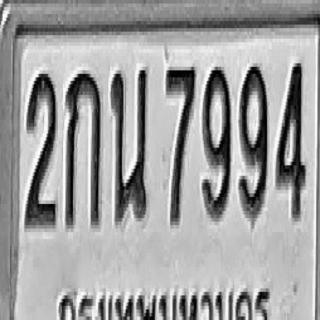A01: (64, 69, 101, 227)
A25: (110, 67, 148, 222)
N02: (24, 72, 56, 227)
N04: (275, 60, 306, 218)
N07: (166, 63, 196, 225)
N09: (239, 62, 268, 220), (202, 63, 230, 218)
